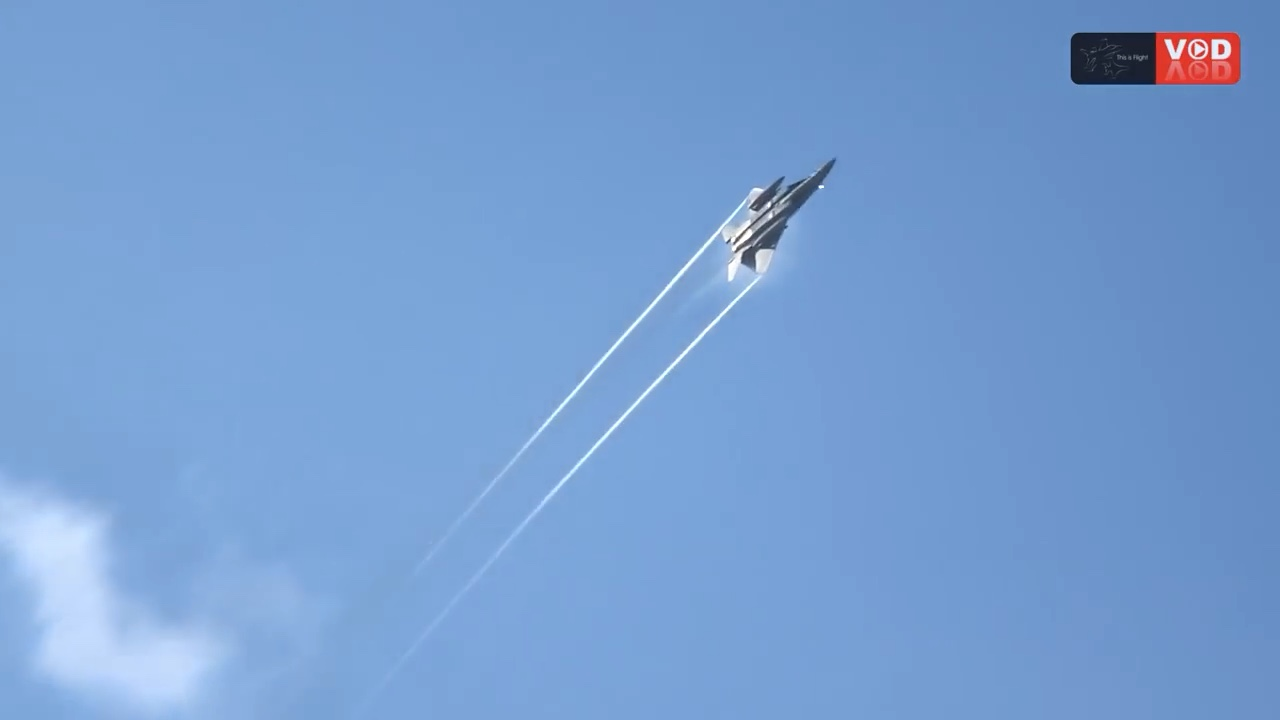f15: (721, 155, 839, 286)
